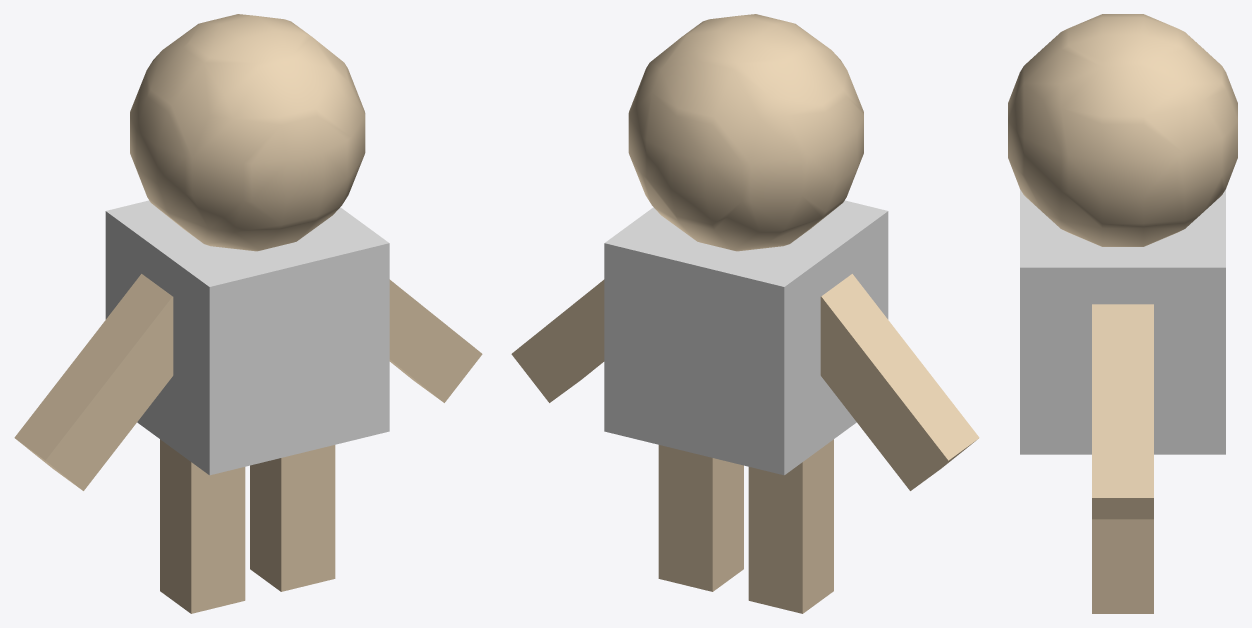
Rendered from whoareyou 1.fbx.
3 renders of one model, left to right at view 1: azimuth 30°, elevation 25°; view 2: azimuth 150°, elevation 25°; view 3: azimuth 270°, elevation 25°, orthographic.
Visible parts, largest first — view 1: Cube, Mball, 立方體.003, 立方體.002, 立方體, 立方體.001; view 2: Cube, Mball, 立方體.003, 立方體.002, 立方體, 立方體.001; view 3: Mball, Cube, 立方體.001, 立方體.
Boxes of the visible parts, x1=… form: Cube: x1=105, y1=200, x2=389, y2=475; Mball: x1=130, y1=14, x2=365, y2=251; 立方體.003: x1=14, y1=274, x2=173, y2=490; 立方體.002: x1=160, y1=439, x2=245, y2=613; 立方體: x1=250, y1=445, x2=335, y2=591; 立方體.001: x1=389, y1=279, x2=482, y2=402; Cube: x1=604, y1=200, x2=888, y2=475; Mball: x1=628, y1=14, x2=863, y2=251; 立方體.003: x1=820, y1=274, x2=979, y2=490; 立方體.002: x1=748, y1=439, x2=833, y2=613; 立方體: x1=658, y1=445, x2=743, y2=591; 立方體.001: x1=511, y1=279, x2=604, y2=402; Mball: x1=1008, y1=14, x2=1237, y2=246; Cube: x1=1020, y1=189, x2=1225, y2=454; 立方體.001: x1=1092, y1=304, x2=1153, y2=519; 立方體: x1=1092, y1=519, x2=1153, y2=613.
Bounding box in the file's own units: 486 × 592 × 223.
